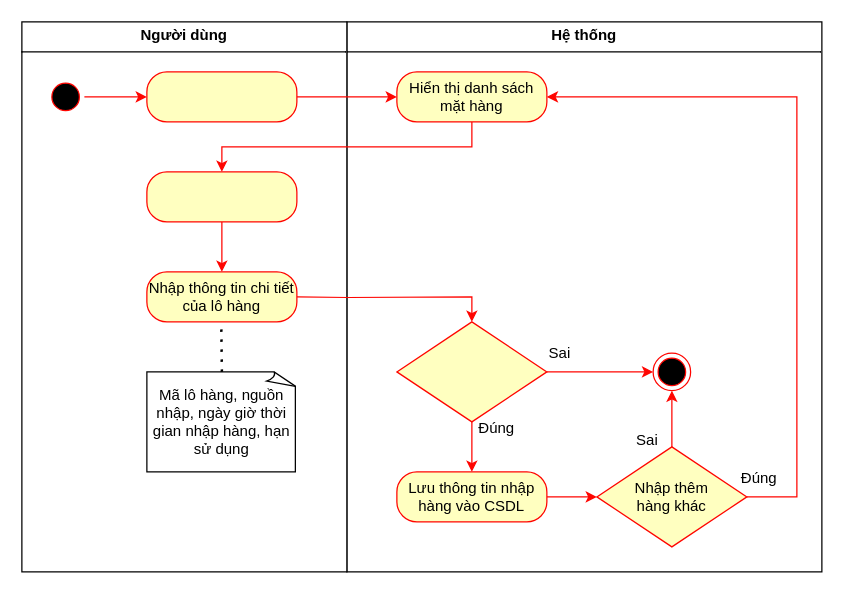
This 844x594 diagram has some shape labels left out. Here are the shapes that lost their labels. From the top down, the centre of each, then its label:
At point 221,96: "Nhập hàng".
At point 221,196: "Chọn các mặt hàng cần nhập và số lượng".
At point 471,371: "Xác nhận nhập hàng".
